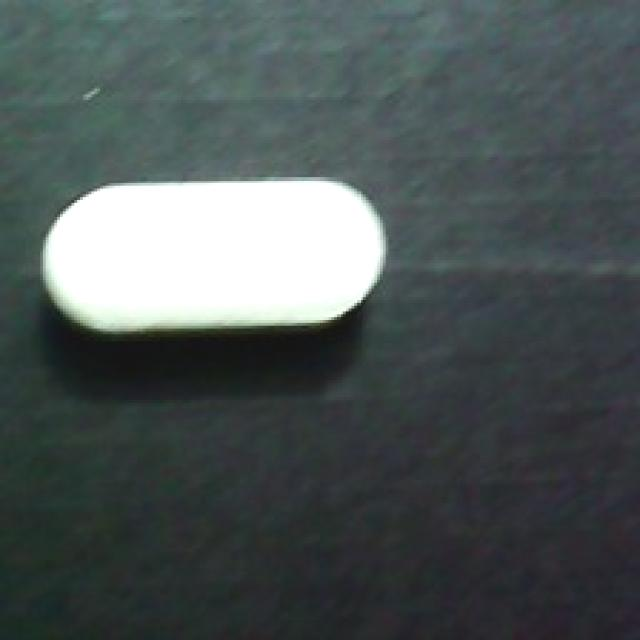no-defect: (37, 163, 400, 343)
